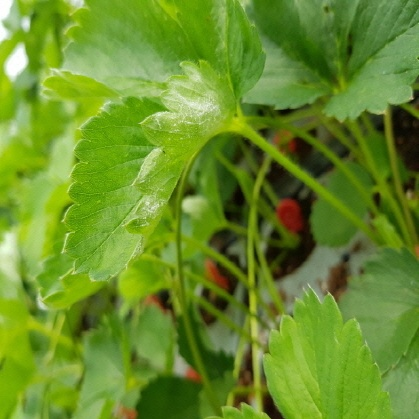Powdery_Leaf: (183, 58, 359, 283)
